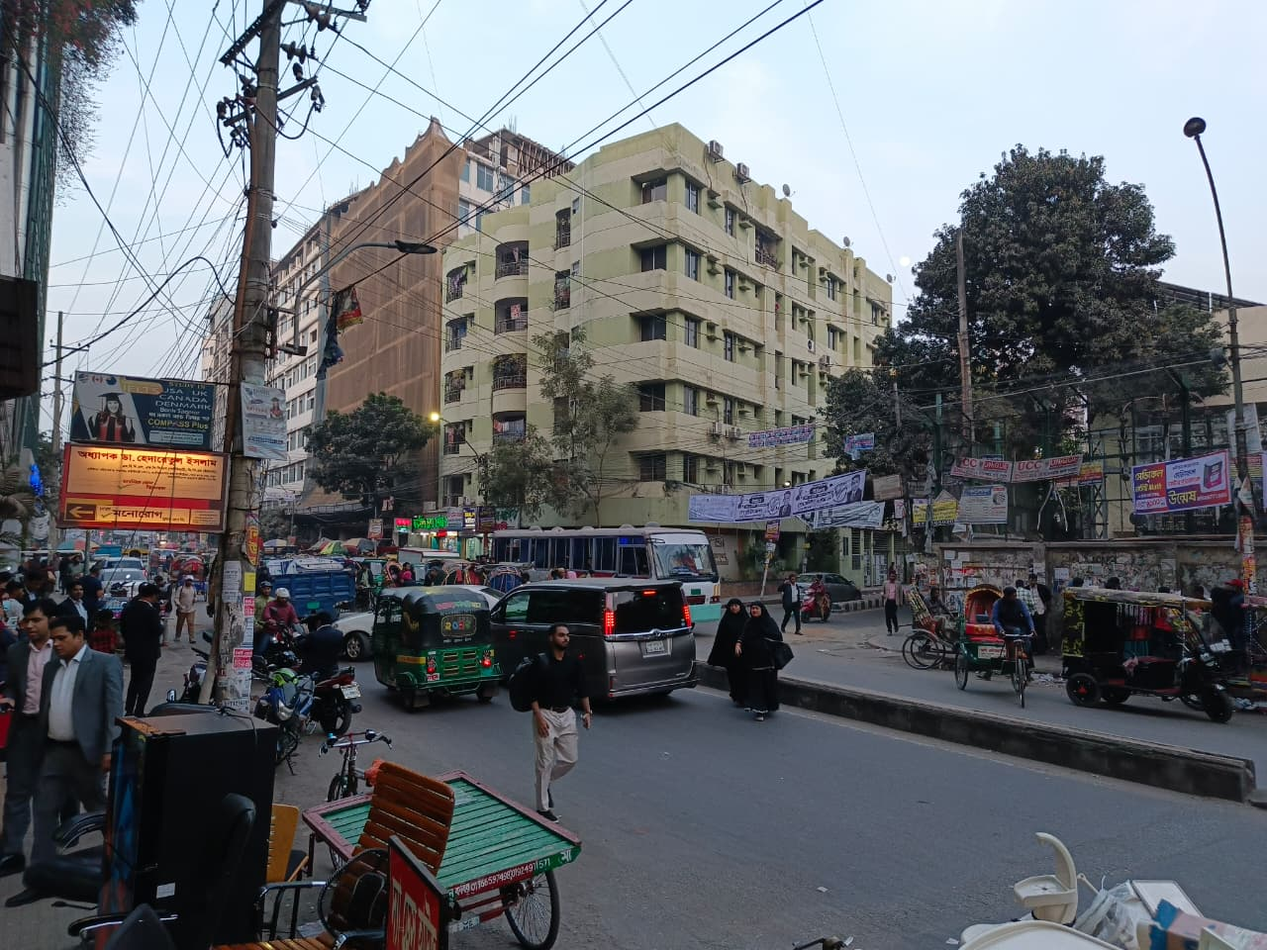Bikes: (257, 624, 394, 742)
Bus: (495, 505, 757, 583)
Truck: (258, 540, 362, 614)
auto-ricksaw: (311, 701, 567, 936), (895, 566, 1099, 731), (1061, 566, 1267, 723), (445, 555, 537, 584)
cng: (356, 551, 499, 710), (351, 554, 402, 602)
private car: (485, 570, 729, 715), (789, 564, 864, 601)
